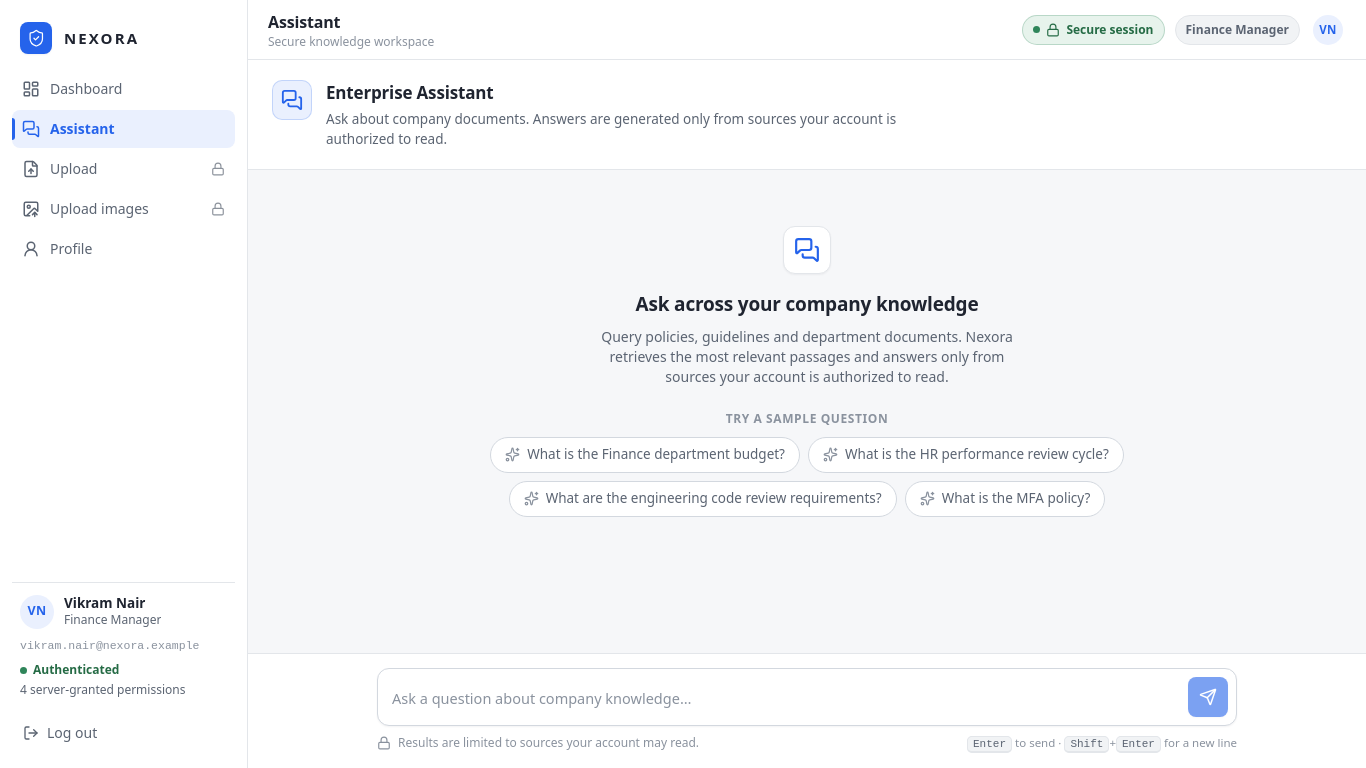
access denied state › keeps the insufficient-information response for an unanswered question, never a denial
Type "What is the capital of France?" into the text box labelled "Ask a question" at [785, 698], box left=392, top=680, right=1178, bottom=716
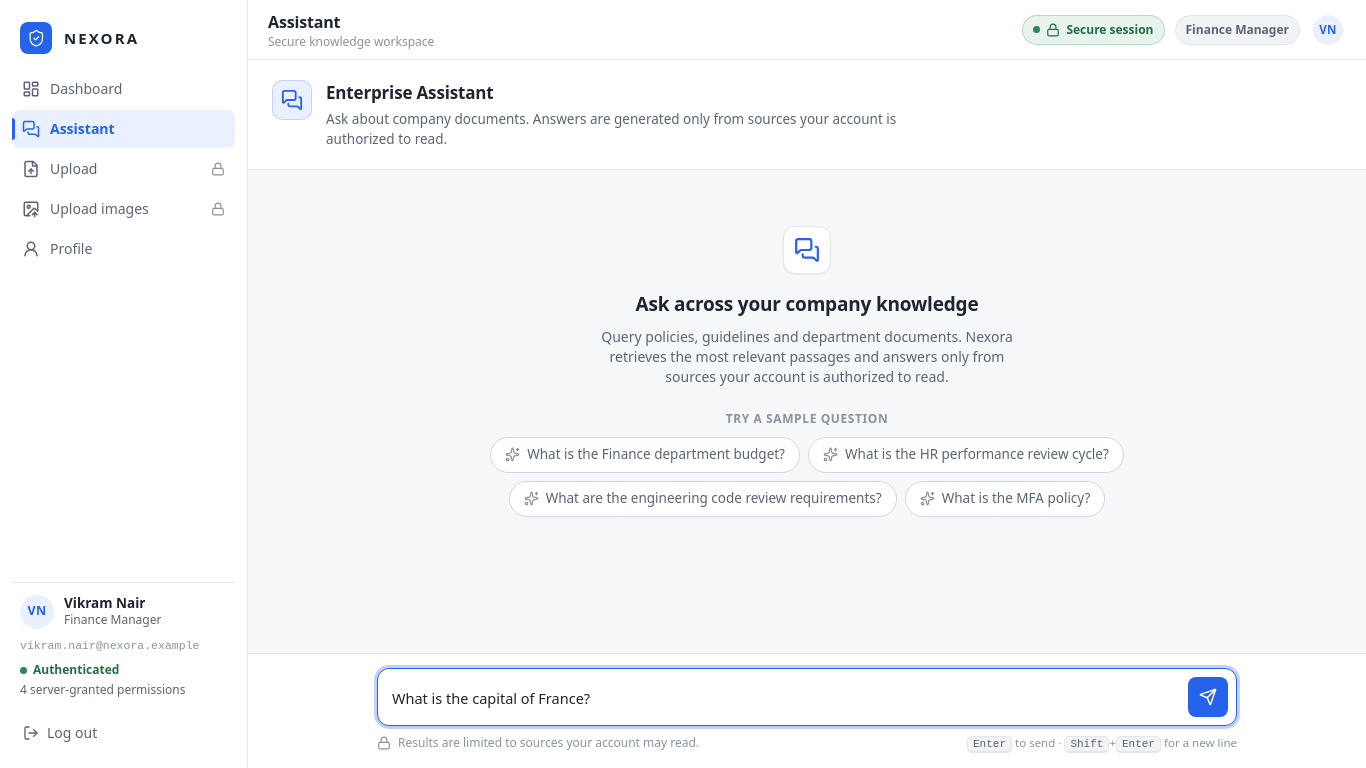
Click the button named "Send question" at [1208, 696], box left=1188, top=676, right=1228, bottom=716
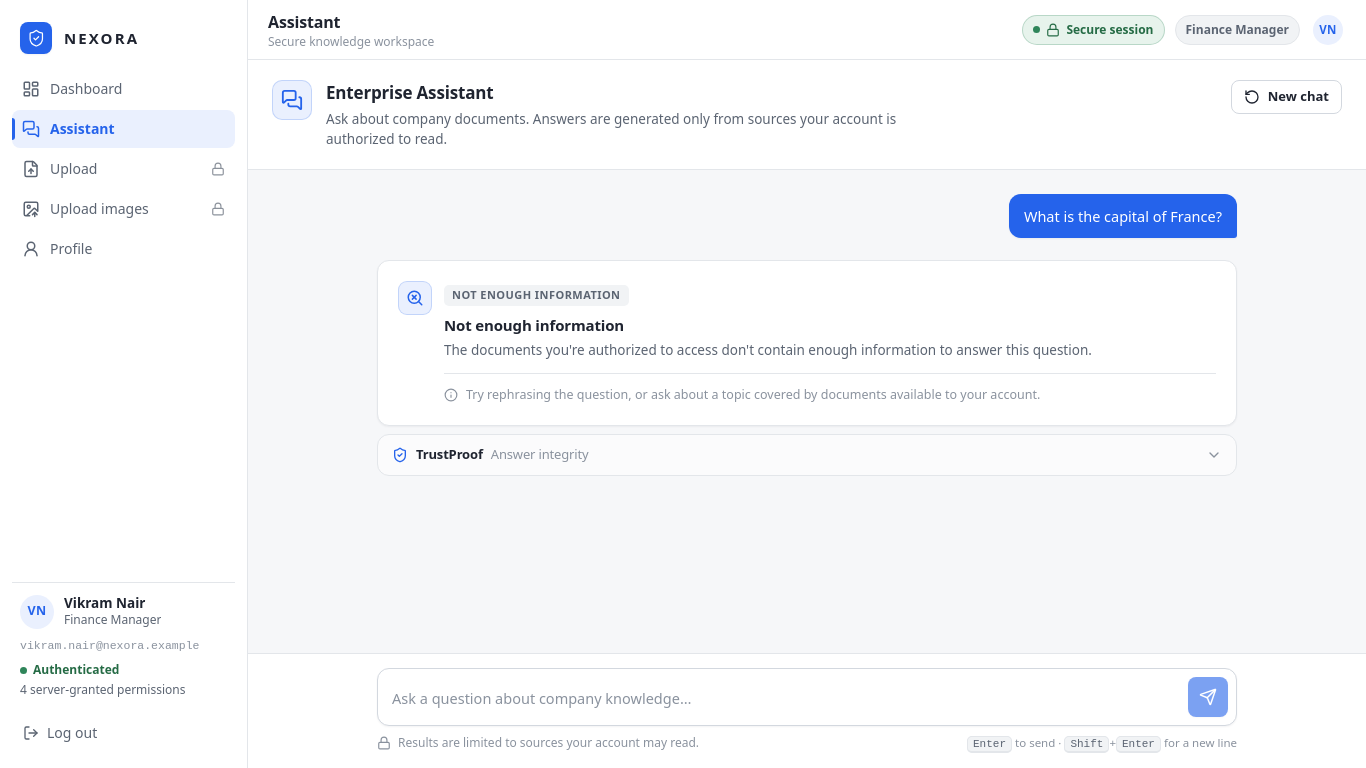
expect the element with test id "insufficient-context" shows "The documents you're authorized to access don't contain enough information to answer this question.": met, box left=444, top=342, right=1092, bottom=360
